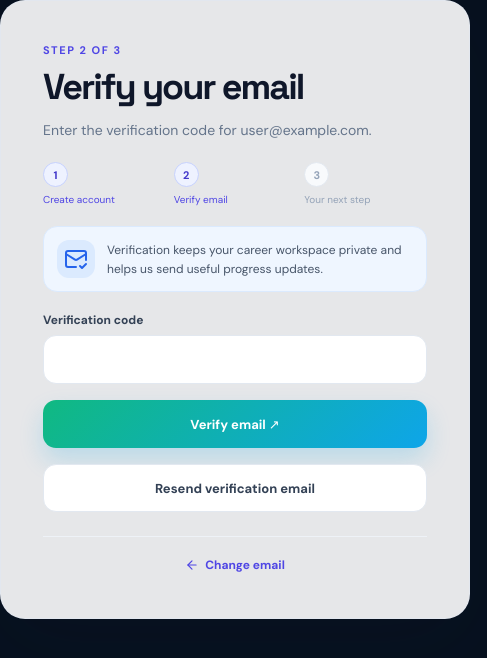
Test: VerifyEmailPage › rejects invalid verification code 12345 before submitting
Type "12345" into the field labelled "Verification code" at (235, 360), box [44,338,426,382]
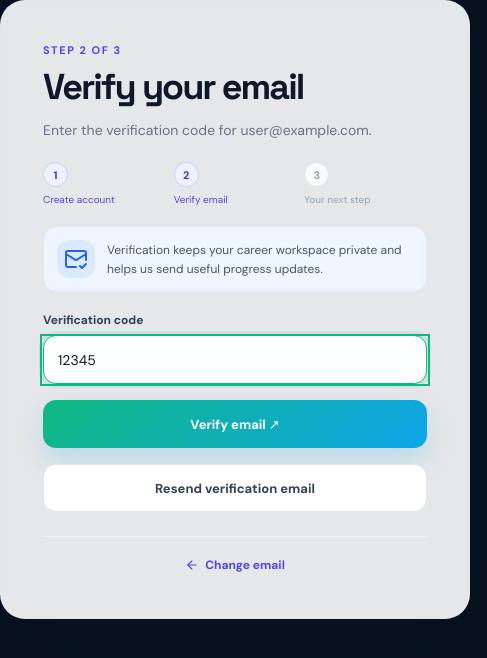
Click the button "Verify email ↗" at (235, 424), box [43,400,427,448]
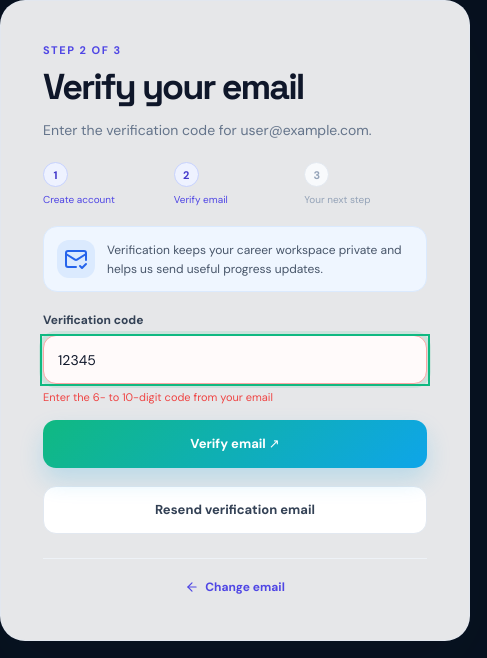
Now the text "Enter the 6- to 10-digit code from your email" is shown, box [43,390,273,404]
